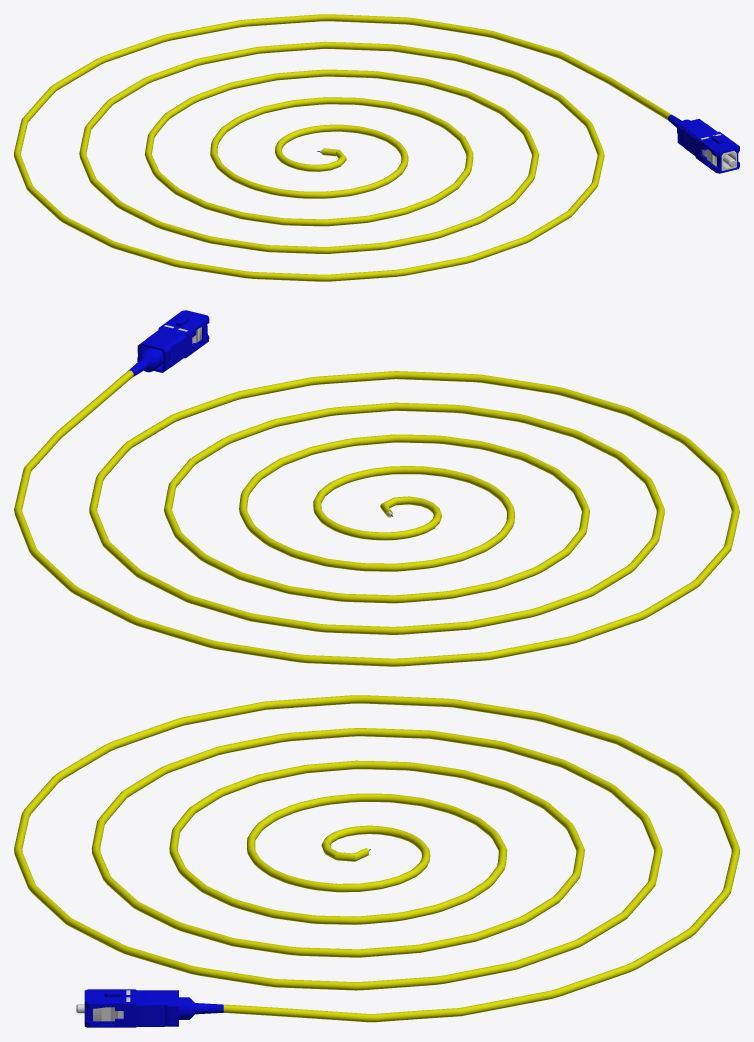
Rendered from Pig Tail.fbx.
The picture shows the model from 3 angles, top to bottom: view 1: azimuth 30°, elevation 25°; view 2: azimuth 150°, elevation 25°; view 3: azimuth 270°, elevation 25°; orthographic projection. The views are drawn at different scales.
Visible parts, largest first — view 1: PigTail; view 2: PigTail; view 3: PigTail.
Boxes of the visible parts, x1,y1,x2,y2 form: PigTail: (14, 14, 739, 281); PigTail: (14, 310, 739, 666); PigTail: (14, 695, 739, 1027).
Size of the model in its own units: 9.97 by 0.4111 by 9.34.
